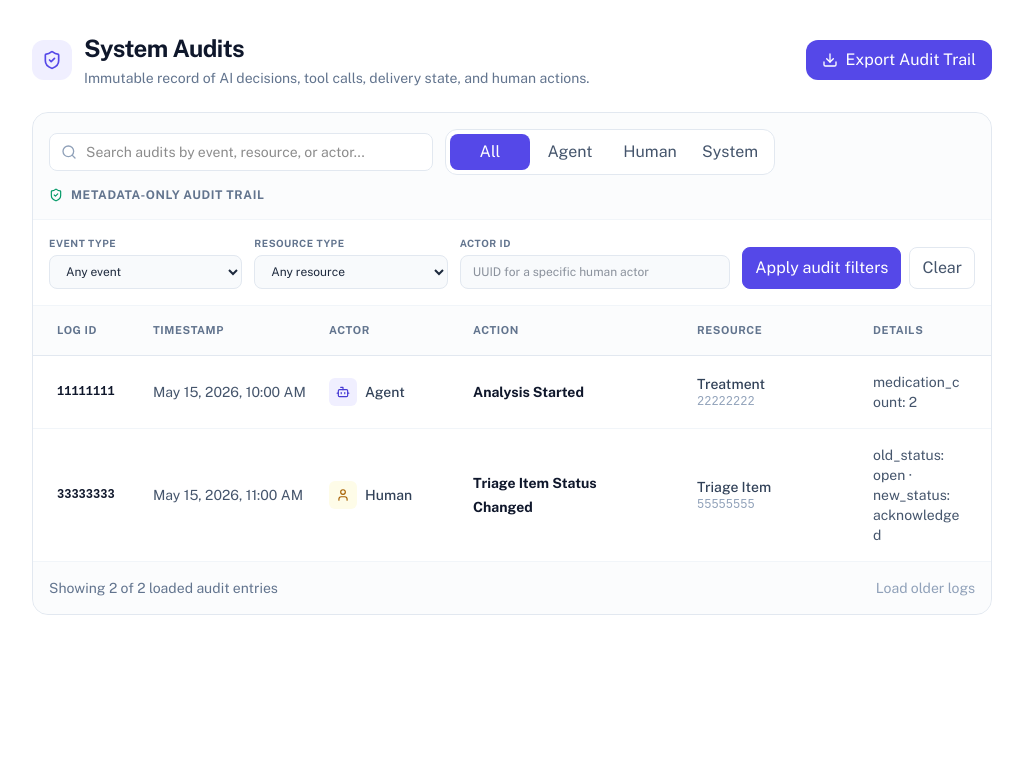
Test: SystemAuditsPage › filters loaded audits by event or resource text
Check: the text "Analysis Started" is shown, box [473,384,584,400]
Type "triage" into the field with placeholder "Search audits by event, resource, or actor..." at (241, 152), box [49,133,433,171]
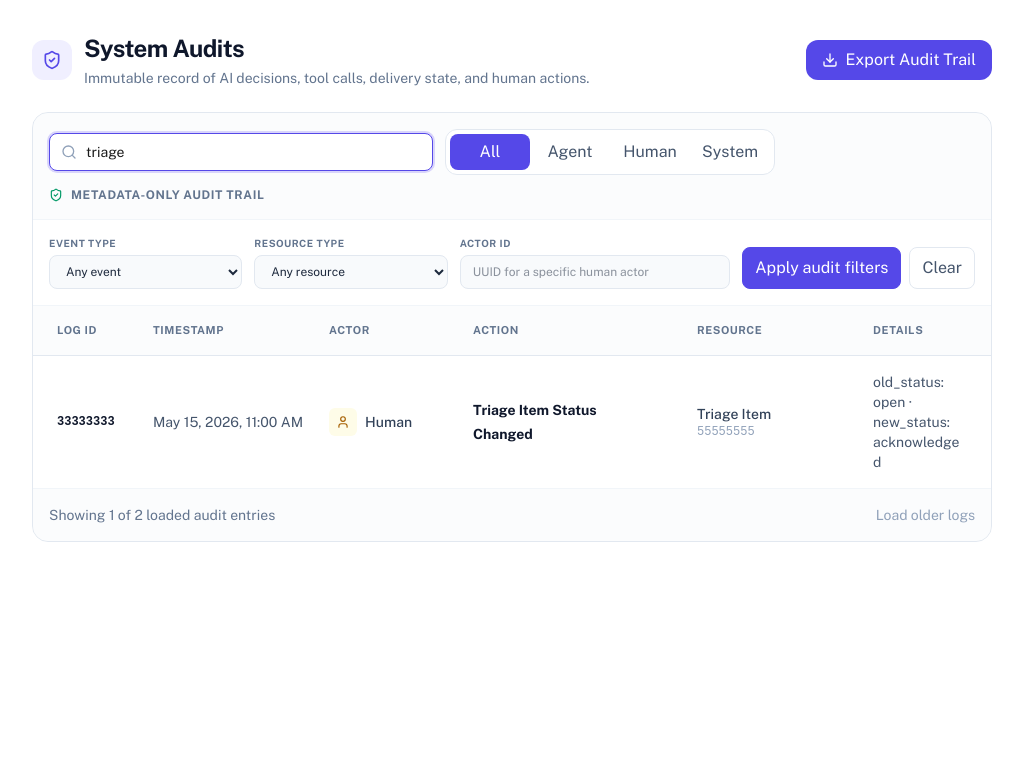
Check: the text "Triage Item Status Changed" is shown, box [473,402,596,442]
Check: the text "Analysis Started" is gone
